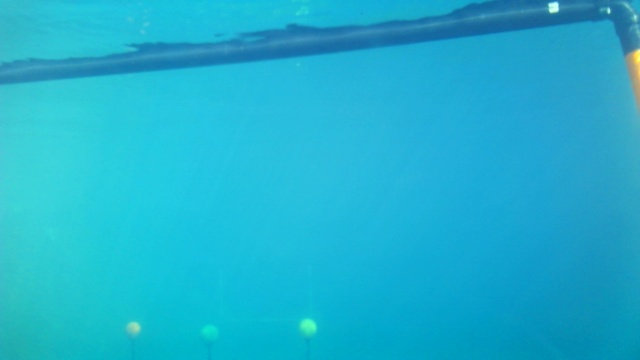buoy_red: (125, 322, 142, 340)
